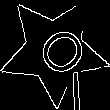O_SW: (22, 18, 86, 83)
